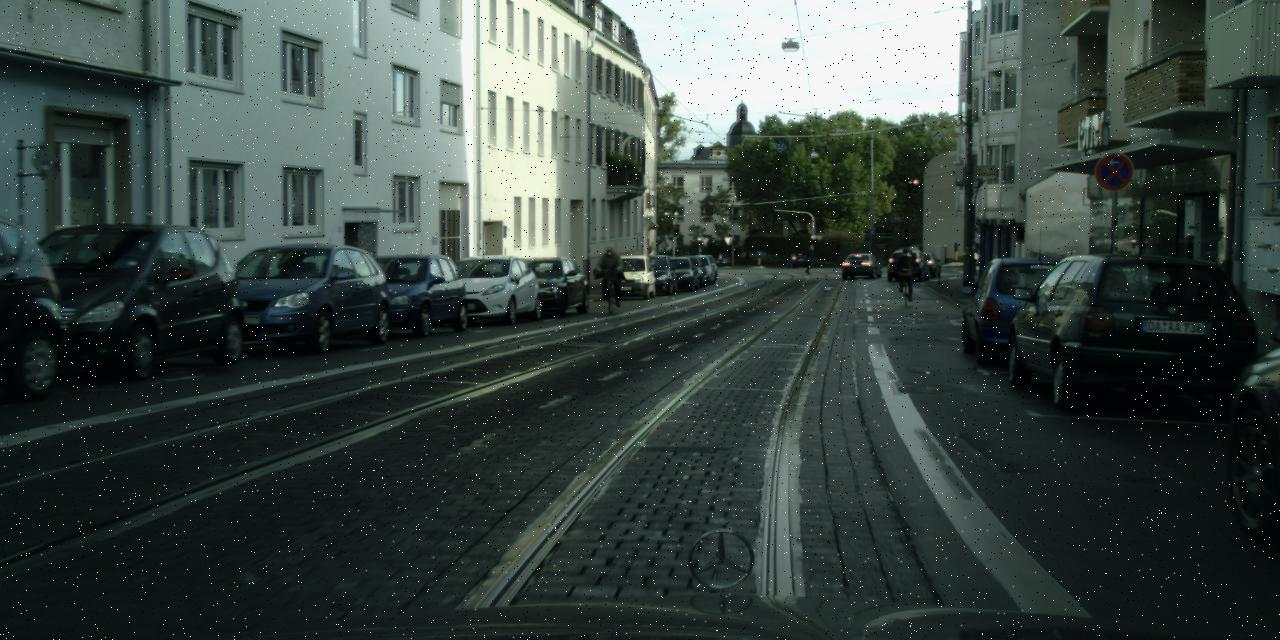ped: (599, 246, 622, 303), (895, 246, 916, 298), (803, 243, 815, 273)
